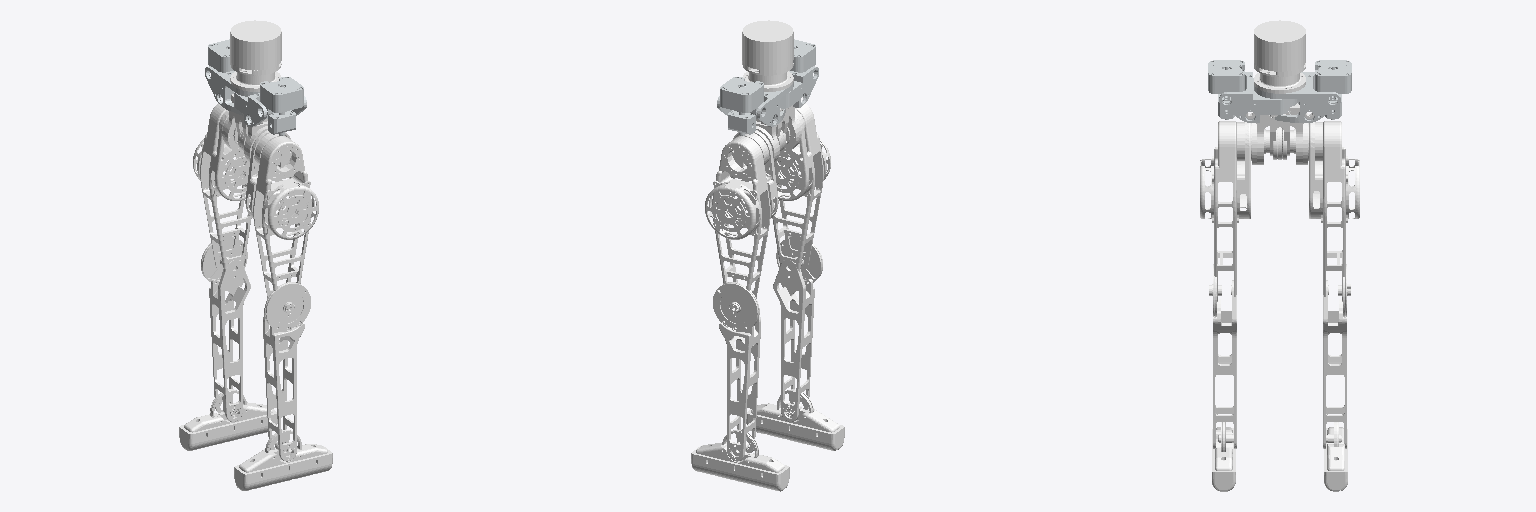
robot.urdf — M02_2_2_v2:
<?xml version="1.0" encoding="utf-8"?>
<!-- This URDF was automatically created by SolidWorks to URDF Exporter! Originally created by [author] ([email redacted])
     Commit Version: 1.5.1-0-g916b5db  Build Version: 1.5.7152.31018
     For more information, please see http://wiki.ros.org/sw_urdf_exporter -->
<robot
  name="M02_2_2_v2">
  <link
    name="base_link">
    <inertial>
      <origin
        xyz="-0.0084821 0.0052406 -0.026677"
        rpy="0 0 0" />
      <mass
        value="2.0" />
      <inertia
        ixx="0.00024695"
        ixy="-1.5521E-06"
        ixz="-3.3351E-07"
        iyy="0.00024515"
        iyz="1.9255E-07"
        izz="0.00034531" />
    </inertial>
    <visual>
      <origin
        xyz="0 0 0"
        rpy="0 0 0" />
      <geometry>
        <mesh
          filename="../meshes/base_link.STL" />
      </geometry>
      <material
        name="">
        <color
          rgba="1 1 1 1" />
      </material>
    </visual>
    <collision>
      <origin
        xyz="0 0 0"
        rpy="0 0 0" />
      <geometry>
        <sphere radius="0.25"/>
      </geometry>
    </collision>
  </link>
  <link
    name="hip_left_1">
    <inertial>
      <origin
        xyz="0.0002208 0.027501 -0.00016309"
        rpy="0 0 0" />
      <mass
        value="1.0" />
      <inertia
        ixx="0.001363"
        ixy="1.8E-05"
        ixz="3.1E-05"
        iyy="0.002016"
        iyz="0.000274"
        izz="0.002541" />
    </inertial>
    <visual>
      <origin
        xyz="0 0 0"
        rpy="0 0 0" />
      <geometry>
        <mesh
          filename="../meshes/hip_left_1.STL" />
      </geometry>
      <material
        name="">
        <color
          rgba="0.89804 0.91765 0.92941 1" />
      </material>
    </visual>
    <!--collision>
      <origin
        xyz="0 0 0"
        rpy="0 0 0" />
      <geometry>
        <mesh
          filename="../meshes/hip_left_1.STL" />
      </geometry>
    </collision -->
  </link>
  <joint
    name="hip_left_z"
    type="revolute">
    <origin
      xyz="-0.0086092 0.005314 -0.095389"
      rpy="0 0 0" />
    <parent
      link="base_link" />
    <child
      link="hip_left_1" />
    <axis
      xyz="0 0 1" />
    <limit
      lower="0"
      upper="0"
      effort="0"
      velocity="0" />
  </joint>
  <link
    name="hip_left_2">
    <inertial>
      <origin
        xyz="-8.70876796118941E-05 -0.0450087964835516 -0.1284029377376"
        rpy="0 0 0" />
      <mass
        value="5.08589390287536" />
      <inertia
        ixx="0.22961611489318"
        ixy="2.35182607271169E-05"
        ixz="-0.00023036663073331"
        iyy="0.20659745123802"
        iyz="-4.31629214428974E-06"
        izz="0.0286113342280241" />
    </inertial>
    <visual>
      <origin
        xyz="0 0 0"
        rpy="0 0 0" />
      <geometry>
        <mesh
          filename="../meshes/hip_left_2.STL" />
      </geometry>
      <material
        name="">
        <color
          rgba="1 1 1 1" />
      </material>
    </visual>
    <collision>
      <origin
        xyz="0 0 0"
        rpy="0 0 0" />
      <geometry>
        <mesh
          filename="../meshes/hip_left_2.STL" />
      </geometry>
    </collision>
  </link>
  <joint
    name="hip_left_x"
    type="revolute">
    <origin
      xyz="0 0.045 -0.01575"
      rpy="0 0 0" />
    <parent
      link="hip_left_1" />
    <child
      link="hip_left_2" />
    <axis
      xyz="1 0 0" />
    <limit
      lower="0"
      upper="0"
      effort="0"
      velocity="0" />
  </joint>
  <link
    name="leg_left_1">
    <inertial>
      <origin
        xyz="-8.70876796118802E-05 -0.0801337964835517 -0.0684029377375995"
        rpy="0 0 0" />
      <mass
        value="5.08589390287536" />
      <inertia
        ixx="0.22961611489318"
        ixy="2.35182607271193E-05"
        ixz="-0.00023036663073331"
        iyy="0.20659745123802"
        iyz="-4.31629214428976E-06"
        izz="0.0286113342280241" />
    </inertial>
    <visual>
      <origin
        xyz="0 0 0"
        rpy="0 0 0" />
      <geometry>
        <mesh
          filename="../meshes/leg_left_1.STL" />
      </geometry>
      <material
        name="">
        <color
          rgba="1 1 1 1" />
      </material>
    </visual>
    <collision>
      <origin
        xyz="0 0 0"
        rpy="0 0 0" />
      <geometry>
        <mesh
          filename="../meshes/leg_left_1.STL" />
      </geometry>
    </collision>
  </link>
  <joint
    name="hip_left_y"
    type="revolute">
    <origin
      xyz="0 0.035125 -0.06"
      rpy="0 0 0" />
    <parent
      link="hip_left_2" />
    <child
      link="leg_left_1" />
    <axis
      xyz="0 1 0" />
    <limit
      lower="0"
      upper="0"
      effort="0"
      velocity="0" />
  </joint>
  <link
    name="leg_left_2">
    <inertial>
      <origin
        xyz="-8.70876796123105E-05 -0.0842587964835519 0.1815970622624"
        rpy="0 0 0" />
      <mass
        value="5.08589390287536" />
      <inertia
        ixx="0.22961611489318"
        ixy="2.35182607271191E-05"
        ixz="-0.000230366630733311"
        iyy="0.20659745123802"
        iyz="-4.31629214428803E-06"
        izz="0.0286113342280241" />
    </inertial>
    <visual>
      <origin
        xyz="0 0 0"
        rpy="0 0 0" />
      <geometry>
        <mesh
          filename="../meshes/leg_left_2.STL" />
      </geometry>
      <material
        name="">
        <color
          rgba="1 1 1 1" />
      </material>
    </visual>
    <collision>
      <origin
        xyz="0 0 0"
        rpy="0 0 0" />
      <geometry>
        <mesh
          filename="../meshes/leg_left_2.STL" />
      </geometry>
    </collision>
  </link>
  <joint
    name="knee_left_y"
    type="revolute">
    <origin
      xyz="0 0.004125 -0.25"
      rpy="0 0 0" />
    <parent
      link="leg_left_1" />
    <child
      link="leg_left_2" />
    <axis
      xyz="0 -1 0" />
    <limit
      lower="0"
      upper="0"
      effort="0"
      velocity="0" />
  </joint>
  <link
    name="foot_left">
    <inertial>
      <origin
        xyz="-8.70876796122758E-05 -0.0857587964835521 0.4315970622624"
        rpy="0 0 0" />
      <mass
        value="5.08589390287536" />
      <inertia
        ixx="0.22961611489318"
        ixy="2.35182607271191E-05"
        ixz="-0.00023036663073331"
        iyy="0.20659745123802"
        iyz="-4.31629214428976E-06"
        izz="0.0286113342280241" />
    </inertial>
    <visual>
      <origin
        xyz="0 0 0"
        rpy="0 0 0" />
      <geometry>
        <mesh
          filename="../meshes/foot_left.STL" />
      </geometry>
      <material
        name="">
        <color
          rgba="1 1 1 1" />
      </material>
    </visual>
    <collision>
      <origin
        xyz="0 0 0"
        rpy="0 0 0" />
      <geometry>
        <mesh
          filename="../meshes/foot_left.STL" />
      </geometry>
    </collision>
  </link>
  <joint
    name="ankle_left_y"
    type="revolute">
    <origin
      xyz="0 0.0015 -0.25"
      rpy="0 0 0" />
    <parent
      link="leg_left_2" />
    <child
      link="foot_left" />
    <axis
      xyz="0 -1 0" />
    <limit
      lower="0"
      upper="0"
      effort="0"
      velocity="0" />
  </joint>
  <link
    name="hip_right_1">
    <inertial>
      <origin
        xyz="0.000224930672830199 -0.0279535029576996 0.00210137348851042"
        rpy="0 0 0" />
      <mass
        value="0.322202116849163" />
      <inertia
        ixx="0.000225642212340295"
        ixy="1.23435710571317E-06"
        ixz="8.31090335159964E-08"
        iyy="0.000257614675678871"
        iyz="8.8366830260423E-06"
        izz="0.00041594124322794" />
    </inertial>
    <visual>
      <origin
        xyz="0 0 0"
        rpy="0 0 0" />
      <geometry>
        <mesh
          filename="../meshes/hip_right_1.STL" />
      </geometry>
      <material
        name="">
        <color
          rgba="0.898039215686275 0.917647058823529 0.929411764705882 1" />
      </material>
    </visual>
    <collision>
      <origin
        xyz="0 0 0"
        rpy="0 0 0" />
      <geometry>
        <mesh
          filename="../meshes/hip_right_1.STL" />
      </geometry>
    </collision>
  </link>
  <joint
    name="hip_right_z"
    type="revolute">
    <origin
      xyz="-0.0086092 0.005314 -0.095389"
      rpy="0 0 0" />
    <parent
      link="base_link" />
    <child
      link="hip_right_1" />
    <axis
      xyz="0 0 1" />
    <limit
      lower="0"
      upper="0"
      effort="0"
      velocity="0" />
  </joint>
  <link
    name="hip_right_2">
    <inertial>
      <origin
        xyz="-8.70876796119566E-05 0.0449912035164484 -0.128402937737599"
        rpy="0 0 0" />
      <mass
        value="5.08589390287536" />
      <inertia
        ixx="0.22961611489318"
        ixy="2.3518260727112E-05"
        ixz="-0.000230366630733387"
        iyy="0.20659745123802"
        iyz="-4.31629214439097E-06"
        izz="0.0286113342280241" />
    </inertial>
    <visual>
      <origin
        xyz="0 0 0"
        rpy="0 0 0" />
      <geometry>
        <mesh
          filename="../meshes/hip_right_2.STL" />
      </geometry>
      <material
        name="">
        <color
          rgba="1 1 1 1" />
      </material>
    </visual>
    <collision>
      <origin
        xyz="0 0 0"
        rpy="0 0 0" />
      <geometry>
        <mesh
          filename="../meshes/hip_right_2.STL" />
      </geometry>
    </collision>
  </link>
  <joint
    name="hip_right_x"
    type="revolute">
    <origin
      xyz="0 -0.045 -0.01575"
      rpy="0 0 0" />
    <parent
      link="hip_right_1" />
    <child
      link="hip_right_2" />
    <axis
      xyz="-1 0 0" />
    <limit
      lower="0"
      upper="0"
      effort="0"
      velocity="0" />
  </joint>
  <link
    name="leg_right_1">
    <inertial>
      <origin
        xyz="-8.70876796119982E-05 0.0801162035164486 -0.0684029377375983"
        rpy="0 0 0" />
      <mass
        value="5.08589390287536" />
      <inertia
        ixx="0.22961611489318"
        ixy="2.35182607271262E-05"
        ixz="-0.000230366630733395"
        iyy="0.20659745123802"
        iyz="-4.31629214408729E-06"
        izz="0.0286113342280241" />
    </inertial>
    <visual>
      <origin
        xyz="0 0 0"
        rpy="0 0 0" />
      <geometry>
        <mesh
          filename="../meshes/leg_right_1.STL" />
      </geometry>
      <material
        name="">
        <color
          rgba="1 1 1 1" />
      </material>
    </visual>
    <collision>
      <origin
        xyz="0 0 0"
        rpy="0 0 0" />
      <geometry>
        <mesh
          filename="../meshes/leg_right_1.STL" />
      </geometry>
    </collision>
  </link>
  <joint
    name="hip_right_y"
    type="revolute">
    <origin
      xyz="0 -0.035125 -0.06"
      rpy="0 0 0" />
    <parent
      link="hip_right_2" />
    <child
      link="leg_right_1" />
    <axis
      xyz="0 -1 0" />
    <limit
      lower="0"
      upper="0"
      effort="0"
      velocity="0" />
  </joint>
  <link
    name="leg_right_2">
    <inertial>
      <origin
        xyz="-8.70876796116929E-05 0.0842412035164477 0.181597062262402"
        rpy="0 0 0" />
      <mass
        value="5.08589390287536" />
      <inertia
        ixx="0.22961611489318"
        ixy="2.35182607271254E-05"
        ixz="-0.000230366630733393"
        iyy="0.20659745123802"
        iyz="-4.31629214408729E-06"
        izz="0.0286113342280241" />
    </inertial>
    <visual>
      <origin
        xyz="0 0 0"
        rpy="0 0 0" />
      <geometry>
        <mesh
          filename="../meshes/leg_right_2.STL" />
      </geometry>
      <material
        name="">
        <color
          rgba="1 1 1 1" />
      </material>
    </visual>
    <collision>
      <origin
        xyz="0 0 0"
        rpy="0 0 0" />
      <geometry>
        <mesh
          filename="../meshes/leg_right_2.STL" />
      </geometry>
    </collision>
  </link>
  <joint
    name="knee_right_y"
    type="revolute">
    <origin
      xyz="0 -0.004125 -0.25"
      rpy="0 0 0" />
    <parent
      link="leg_right_1" />
    <child
      link="leg_right_2" />
    <axis
      xyz="0 1 0" />
    <limit
      lower="0"
      upper="0"
      effort="0"
      velocity="0" />
  </joint>
  <link
    name="foot_right">
    <inertial>
      <origin
        xyz="-8.7087679611686E-05 0.0857412035164476 0.431597062262402"
        rpy="0 0 0" />
      <mass
        value="5.08589390287536" />
      <inertia
        ixx="0.22961611489318"
        ixy="2.35182607271254E-05"
        ixz="-0.000230366630733393"
        iyy="0.20659745123802"
        iyz="-4.31629214408555E-06"
        izz="0.0286113342280241" />
    </inertial>
    <visual>
      <origin
        xyz="0 0 0"
        rpy="0 0 0" />
      <geometry>
        <mesh
          filename="../meshes/foot_right.STL" />
      </geometry>
      <material
        name="">
        <color
          rgba="1 1 1 1" />
      </material>
    </visual>
    <collision>
      <origin
        xyz="0 0 0"
        rpy="0 0 0" />
      <geometry>
        <mesh
          filename="../meshes/foot_right.STL" />
      </geometry>
    </collision>
  </link>
  <joint
    name="ankle_right_y"
    type="revolute">
    <origin
      xyz="0 -0.0015 -0.25"
      rpy="0 0 0" />
    <parent
      link="leg_right_2" />
    <child
      link="foot_right" />
    <axis
      xyz="0 1 0" />
    <limit
      lower="0"
      upper="0"
      effort="0"
      velocity="0" />
  </joint>
</robot>

--- Facts derived from the render (not from the file) ---
The picture shows the robot from 3 angles, left to right: view 1: azimuth 30°, elevation 25°; view 2: azimuth 150°, elevation 25°; view 3: azimuth 270°, elevation 25°; orthographic projection.
Robot: M02_2_2_v2 — 11 links, 10 joints (10 revolute); root link base_link; default pose: every joint at zero.
Visible links, largest first — view 1: leg_right_1, leg_right_2, leg_left_1, leg_left_2, base_link, foot_right, foot_left, hip_left_1, hip_right_1, hip_right_2, hip_left_2; view 2: leg_left_1, leg_left_2, leg_right_1, leg_right_2, base_link, foot_left, foot_right, hip_right_1, hip_left_1, hip_left_2, hip_right_2; view 3: leg_left_1, leg_right_1, base_link, hip_left_1, hip_right_1, leg_right_2, leg_left_2, hip_left_2, hip_right_2, foot_left, foot_right.
Link boxes in pixels (bbox=[...]): leg_right_1: bbox=[245, 130, 318, 298]; leg_right_2: bbox=[263, 282, 310, 461]; leg_left_1: bbox=[193, 103, 258, 277]; leg_left_2: bbox=[201, 236, 250, 421]; base_link: bbox=[230, 20, 281, 91]; foot_right: bbox=[234, 429, 332, 490]; foot_left: bbox=[179, 389, 277, 450]; hip_left_1: bbox=[234, 77, 306, 135]; hip_right_1: bbox=[205, 39, 259, 115]; hip_right_2: bbox=[235, 113, 291, 168]; hip_left_2: bbox=[219, 94, 247, 153]; leg_left_1: bbox=[705, 130, 778, 298]; leg_left_2: bbox=[713, 282, 760, 461]; leg_right_1: bbox=[765, 101, 830, 276]; leg_right_2: bbox=[773, 236, 822, 421]; base_link: bbox=[742, 20, 793, 91]; foot_left: bbox=[691, 429, 789, 491]; foot_right: bbox=[746, 389, 844, 450]; hip_right_1: bbox=[717, 77, 793, 135]; hip_left_1: bbox=[780, 39, 818, 108]; hip_left_2: bbox=[732, 108, 788, 168]; hip_right_2: bbox=[776, 105, 804, 153]; leg_left_1: bbox=[1309, 121, 1359, 301]; leg_right_1: bbox=[1200, 121, 1250, 301]; base_link: bbox=[1254, 20, 1305, 93]; hip_left_1: bbox=[1208, 60, 1298, 122]; hip_right_1: bbox=[1254, 60, 1351, 122]; leg_right_2: bbox=[1209, 264, 1236, 448]; leg_left_2: bbox=[1323, 264, 1350, 448]; hip_left_2: bbox=[1270, 103, 1322, 164]; hip_right_2: bbox=[1237, 113, 1289, 164]; foot_left: bbox=[1324, 422, 1347, 491]; foot_right: bbox=[1212, 422, 1235, 491].
Size in the robot's own frame: 0.16 by 0.245 by 0.7381 metres.
11 mesh visuals loaded from 11 distinct referenced files (11 binary STL).
